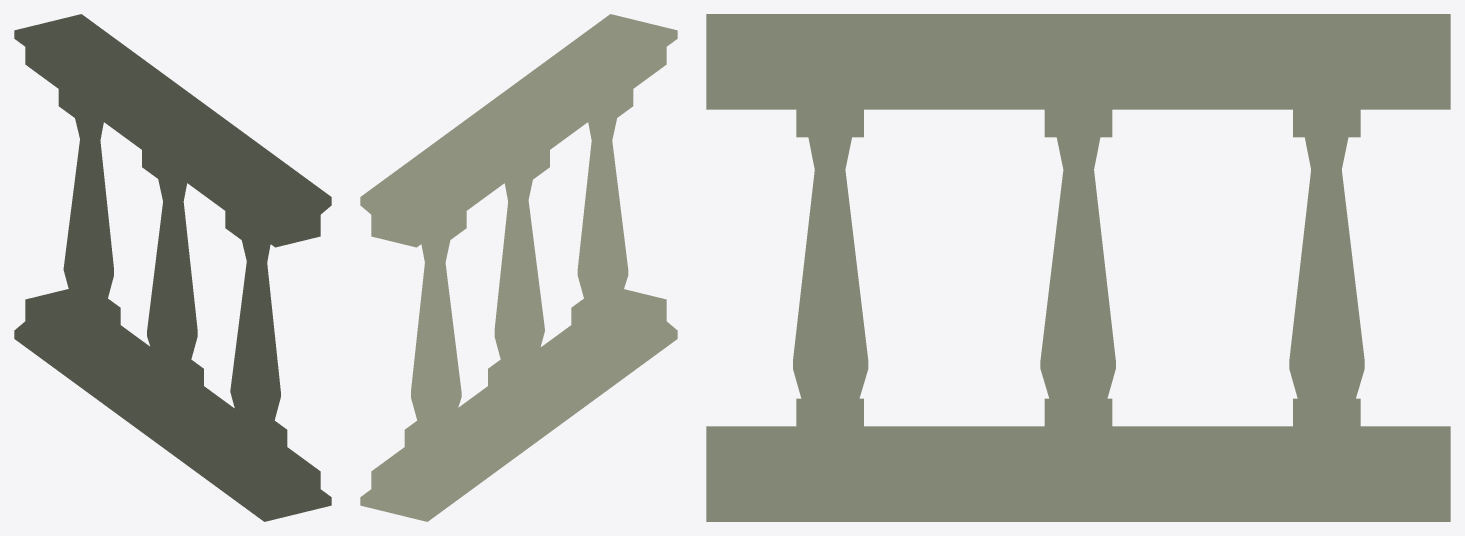
File: railing_3piece.dae
3 views of the same model, side by side, from view 1: azimuth 30°, elevation 25°; view 2: azimuth 150°, elevation 25°; view 3: azimuth 270°, elevation 25° (orthographic). The views are drawn at different scales.
Parts seen in each view (by area): view 1: cube2-0; view 2: cube2-0; view 3: cube2-0.
Boxes of the visible parts, <box> form: cube2-0: <box>14,14,331,521</box>; cube2-0: <box>360,14,677,521</box>; cube2-0: <box>706,14,1450,521</box>.
Size of the model in its own units: 0.1466 by 0.6424 by 0.9442.
